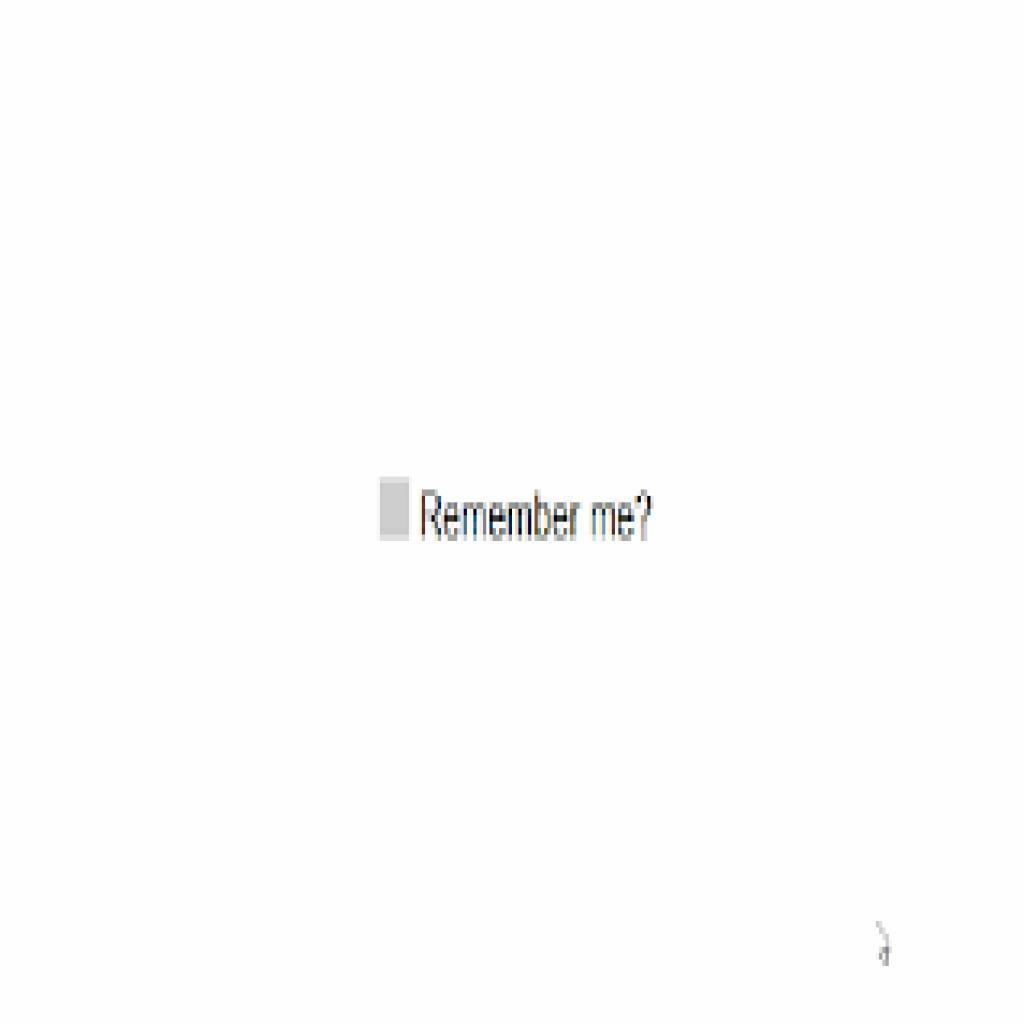checkbox: (380, 475, 412, 541)
label: (420, 491, 654, 553)
